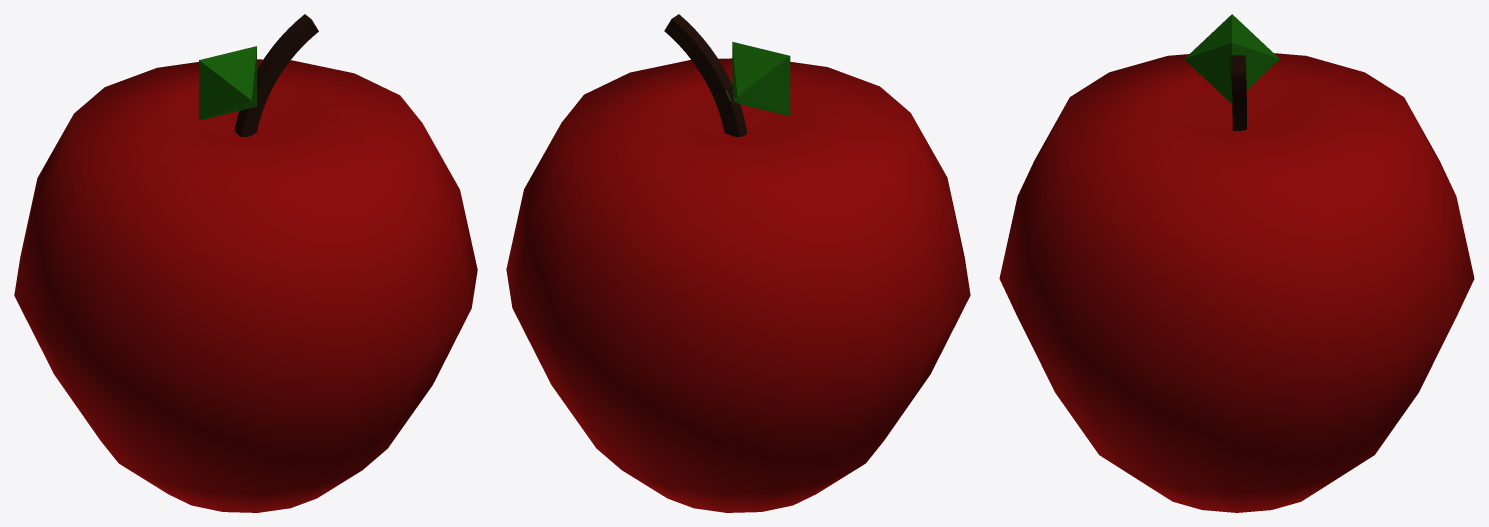
Rendered from apple.FBX.
The picture shows the model from 3 angles, left to right: view 1: azimuth 30°, elevation 25°; view 2: azimuth 150°, elevation 25°; view 3: azimuth 270°, elevation 25°; orthographic projection.
Visible parts, largest first — view 1: Apple; view 2: Apple; view 3: Apple.
Part boxes in pixels (left/top/right/bottom): Apple: left=14, top=14, right=477, bottom=512; Apple: left=506, top=14, right=970, bottom=512; Apple: left=999, top=14, right=1474, bottom=512.
Size of the model in its own units: 9.63 by 10.08 by 9.63.
